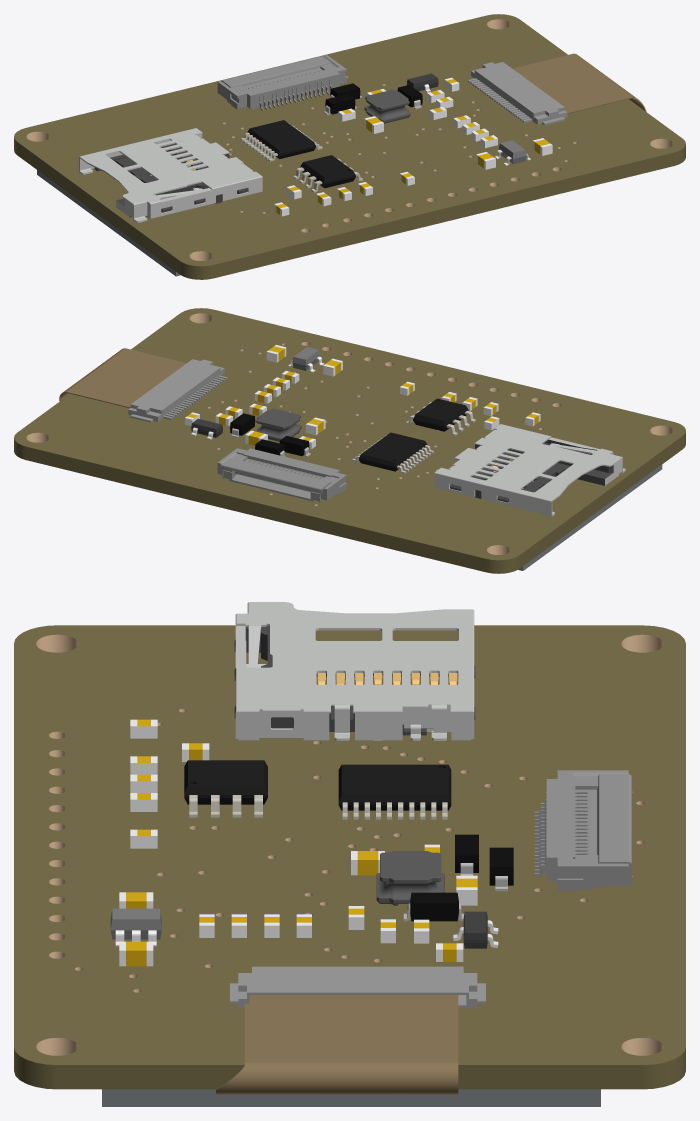
3 renders of one model, top to bottom at view 1: azimuth 30°, elevation 25°; view 2: azimuth 150°, elevation 25°; view 3: azimuth 270°, elevation 25°, orthographic. The views are drawn at different scales.
Parts seen in each view (by area): view 1: Board:1, MICROSD:X2, EINK_213IN_104X212:EINK1, EYE_SPI_DISPLAY_BOTCONTACT:X1, FPC-connector-24pin v3:1, TSSOP20:U1, SOIC8_150MIL:U4, INDUCTOR_4X4MM_NR401:L1, SOT23-5:U2, SOD-123:D1, SOT23-3:Q5; view 2: Board:1, MICROSD:X2, EINK_213IN_104X212:EINK1, EYE_SPI_DISPLAY_BOTCONTACT:X1, FPC-connector-24pin v3:1, TSSOP20:U1, SOIC8_150MIL:U4, INDUCTOR_4X4MM_NR401:L1, SOT23-5:U2, SOT23-3:Q5, SOD-123:D1, SOD-123:D3; view 3: Board:1, MICROSD:X2, EINK_213IN_104X212:EINK1, EYE_SPI_DISPLAY_BOTCONTACT:X1, FPC-connector-24pin v3:1, TSSOP20:U1, SOIC8_150MIL:U4, INDUCTOR_4X4MM_NR401:L1, SOT23-5:U2, SOD-123:D3, SOT23-3:Q5, SOD-123:D2 (+2 smaller).
Boxes of the visible parts, bbox=[...] form: Board:1: bbox=[14, 14, 685, 279]; MICROSD:X2: bbox=[79, 128, 262, 222]; EINK_213IN_104X212:EINK1: bbox=[37, 53, 646, 276]; EYE_SPI_DISPLAY_BOTCONTACT:X1: bbox=[217, 55, 346, 110]; FPC-connector-24pin v3:1: bbox=[468, 62, 567, 125]; TSSOP20:U1: bbox=[240, 120, 322, 161]; SOIC8_150MIL:U4: bbox=[293, 155, 363, 192]; INDUCTOR_4X4MM_NR401:L1: bbox=[364, 89, 410, 123]; SOT23-5:U2: bbox=[494, 140, 530, 165]; SOD-123:D1: bbox=[323, 94, 356, 115]; SOT23-3:Q5: bbox=[406, 73, 438, 92]; Board:1: bbox=[14, 308, 685, 573]; MICROSD:X2: bbox=[434, 424, 625, 516]; EINK_213IN_104X212:EINK1: bbox=[59, 348, 662, 570]; EYE_SPI_DISPLAY_BOTCONTACT:X1: bbox=[217, 448, 346, 502]; FPC-connector-24pin v3:1: bbox=[128, 359, 227, 422]; TSSOP20:U1: bbox=[352, 432, 433, 473]; SOIC8_150MIL:U4: bbox=[406, 398, 475, 435]; INDUCTOR_4X4MM_NR401:L1: bbox=[256, 408, 301, 441]; SOT23-5:U2: bbox=[288, 347, 324, 372]; SOT23-3:Q5: bbox=[191, 418, 222, 440]; SOD-123:D1: bbox=[279, 435, 310, 457]; SOD-123:D3: bbox=[230, 413, 255, 437]; Board:1: bbox=[14, 625, 685, 1089]; MICROSD:X2: bbox=[234, 602, 475, 740]; EINK_213IN_104X212:EINK1: bbox=[102, 995, 600, 1106]; EYE_SPI_DISPLAY_BOTCONTACT:X1: bbox=[534, 770, 632, 890]; FPC-connector-24pin v3:1: bbox=[230, 966, 485, 1008]; TSSOP20:U1: bbox=[338, 764, 451, 819]; SOIC8_150MIL:U4: bbox=[184, 760, 267, 817]; INDUCTOR_4X4MM_NR401:L1: bbox=[376, 851, 444, 905]; SOT23-5:U2: bbox=[110, 908, 161, 946]; SOD-123:D3: bbox=[403, 892, 464, 921]; SOT23-3:Q5: bbox=[453, 911, 498, 948]; SOD-123:D2: bbox=[489, 847, 513, 891].
Size of the model in its own units: 0.0621 by 0.005 by 0.0394.
